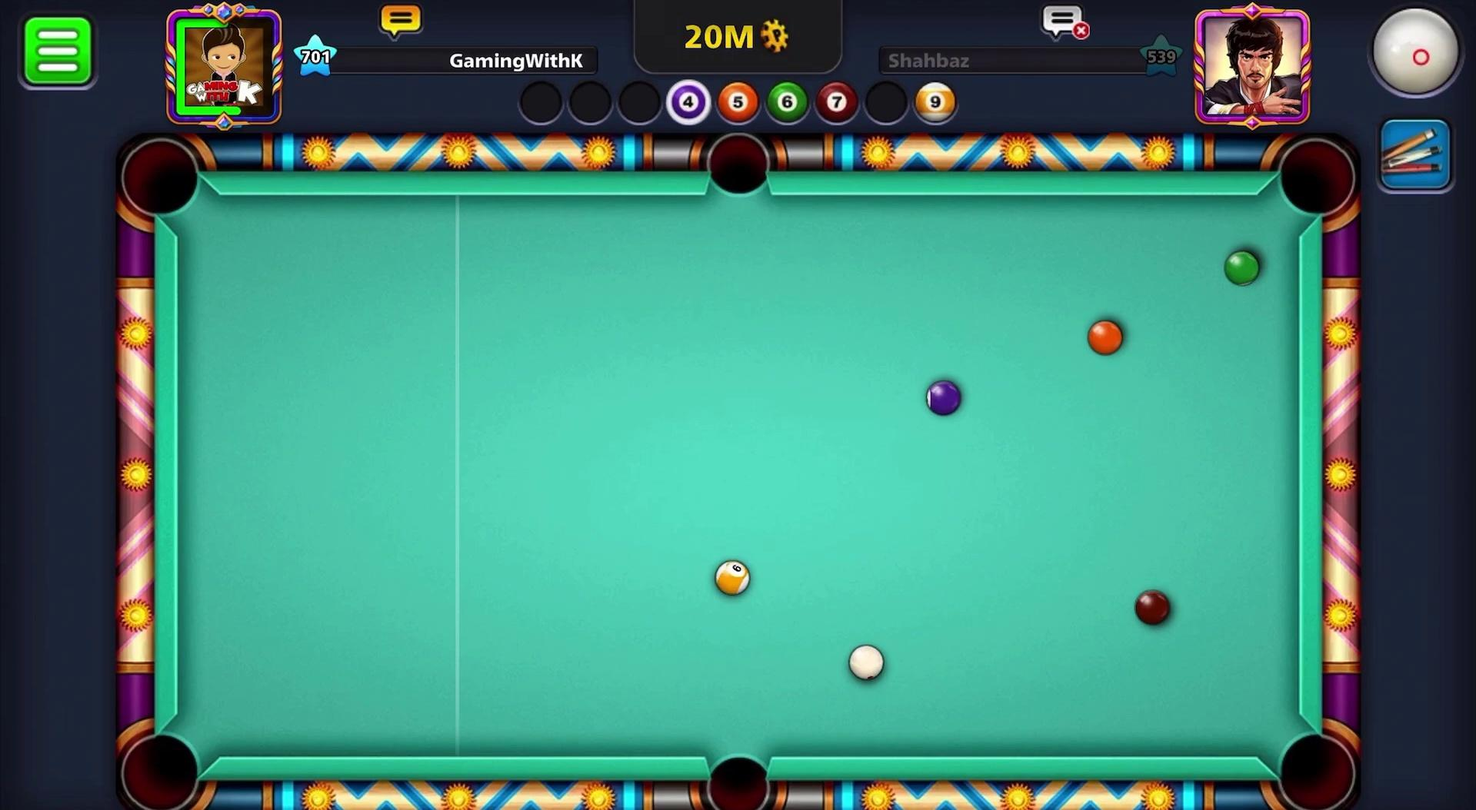Ball: (914, 372, 969, 425), (1086, 313, 1127, 367), (1133, 588, 1180, 632), (710, 557, 753, 602), (1223, 249, 1261, 288)
Hole: (105, 128, 225, 234), (109, 708, 216, 810), (1269, 131, 1367, 233), (1267, 711, 1358, 810), (689, 124, 790, 210), (681, 742, 787, 810)
Play_Area: (177, 193, 1298, 758)
Spin: (1349, 0, 1476, 120)
White: (842, 646, 890, 686)
